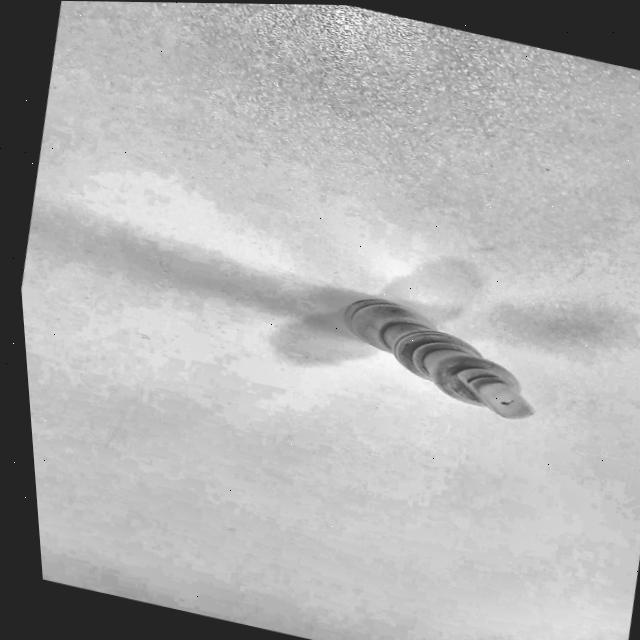white-king: (341, 297, 534, 418)
